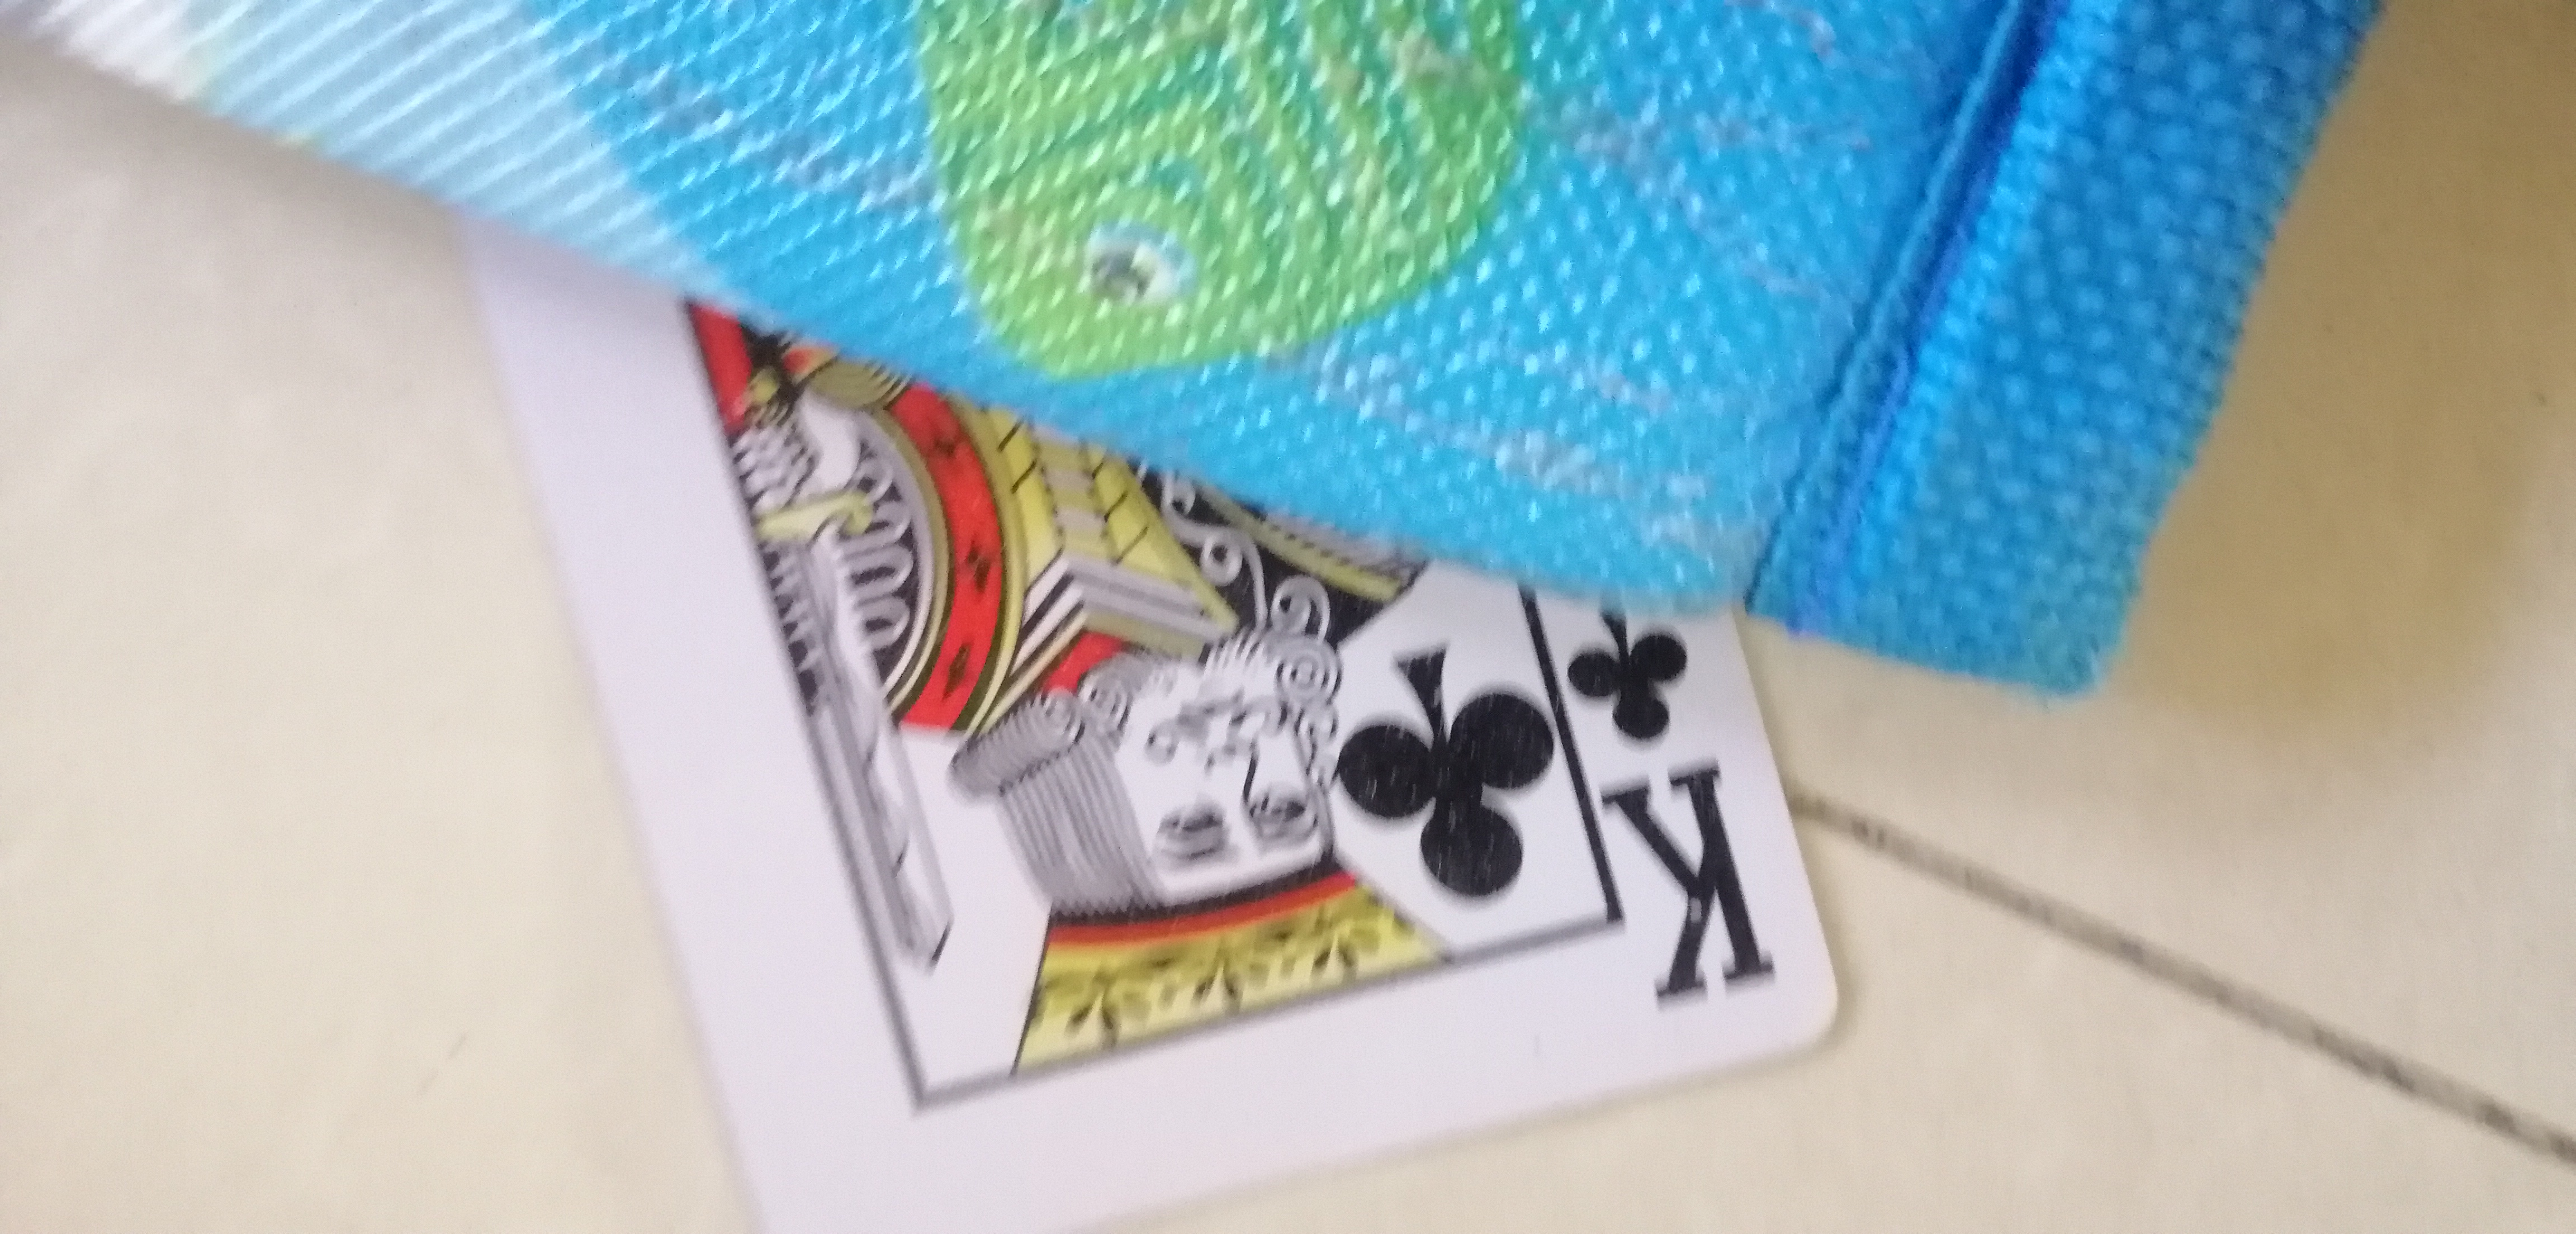king: (447, 248, 1896, 1153)
